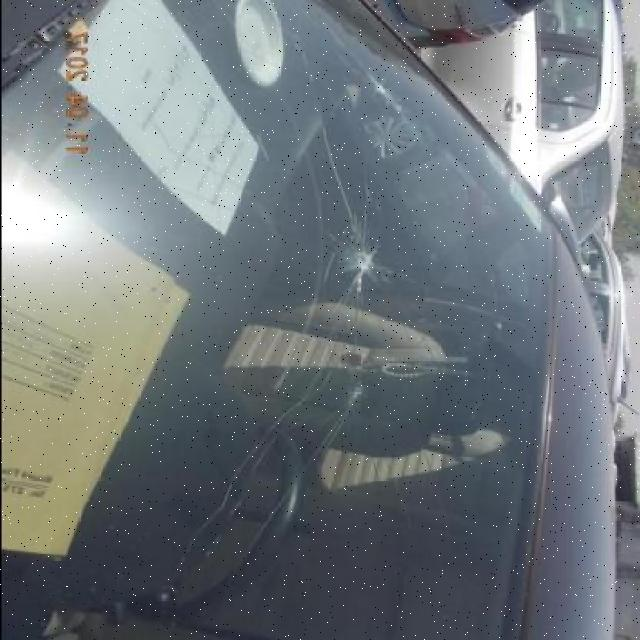damage: (333, 228, 393, 293), (342, 371, 379, 409), (366, 76, 402, 106)
